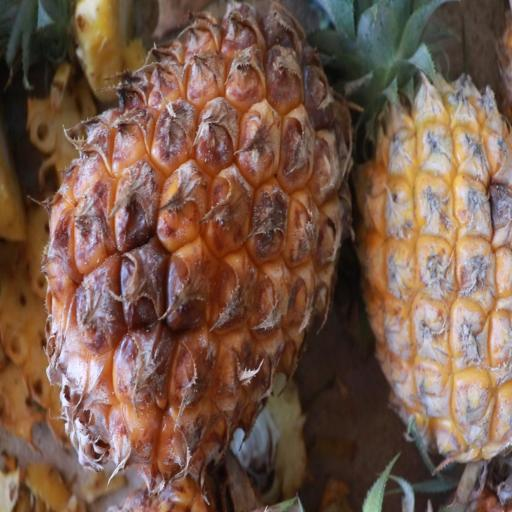Pineapple - v8 v1: (42, 5, 355, 494), (345, 2, 512, 480)
